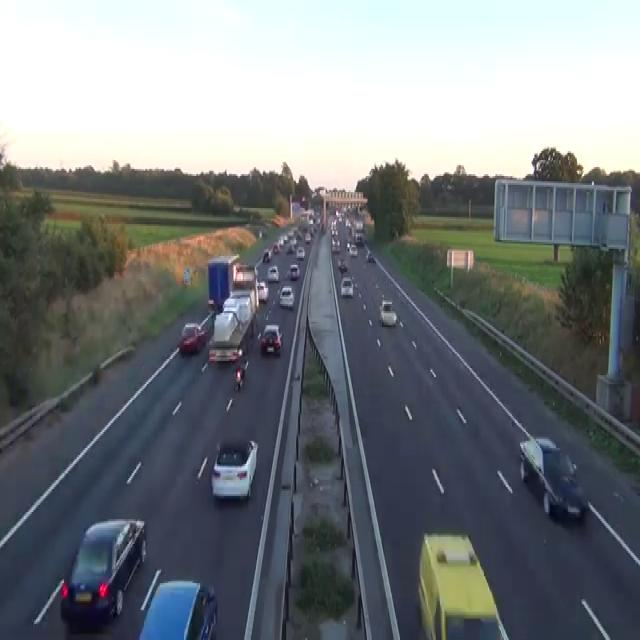Car: (417, 532, 510, 638), (60, 517, 147, 624), (519, 436, 586, 522), (138, 578, 218, 638), (210, 438, 258, 502), (207, 311, 243, 363), (222, 295, 251, 329), (178, 322, 207, 354), (260, 324, 282, 356), (232, 262, 257, 286), (379, 299, 396, 327), (234, 359, 248, 391), (279, 284, 294, 308), (340, 277, 353, 297), (257, 281, 268, 302), (234, 366, 243, 391), (267, 265, 279, 281), (289, 263, 300, 279), (262, 247, 271, 263), (337, 258, 347, 272), (354, 231, 364, 245), (331, 238, 340, 252), (296, 246, 305, 260), (366, 249, 375, 261), (349, 244, 358, 256), (272, 242, 280, 254), (441, 182, 453, 190), (207, 297, 214, 309), (330, 226, 338, 236), (286, 244, 294, 254), (365, 247, 371, 260), (304, 231, 311, 242), (233, 204, 240, 213), (346, 240, 350, 251), (258, 230, 262, 238)
Truck: (207, 254, 259, 363), (206, 253, 239, 311)
